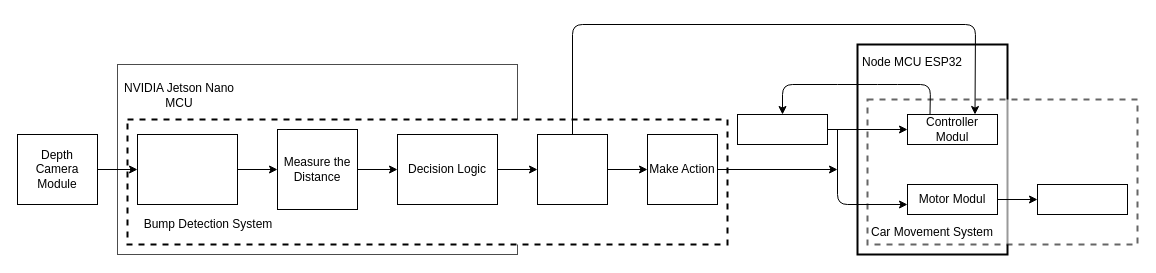
The diagram is 1156 pixels wide and 273 high, and some of its shapes have lost their labels. The centre of each missing label's shape, as x and y in pixels:
"AI Model for Detecting Bump" goes at point 187,169.
"Alert System" goes at point 572,169.
"Motors" goes at point 1082,199.
"PS4 Controller" goes at point 782,129.
